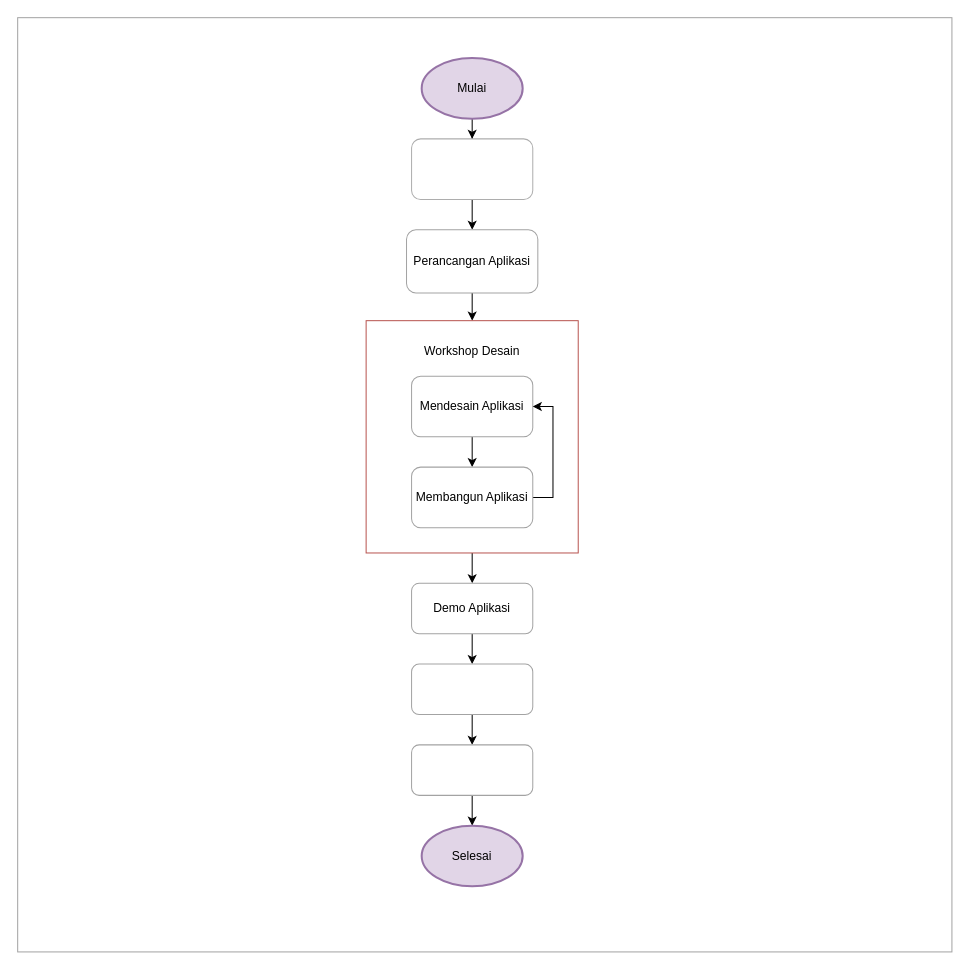
Image size: 970x970. Some labels were removed from this diagram. The shapes that lost their labels are listed below. From the top down, each one's box as (x1, y1, x2, y2) in pixels, then its label:
(411, 138, 533, 199): Pengumpulan Requirement & Studi Literatur
(411, 663, 533, 715): Analisis Data
(411, 744, 533, 795): Kesimpulan
